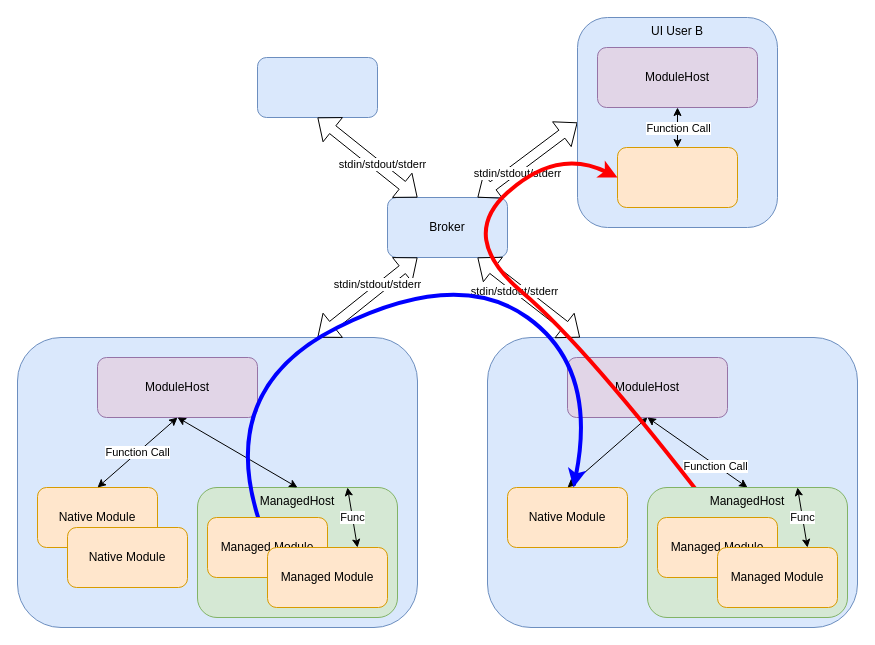
This 875x645 diagram has some shape labels left out. The centre of each missing label's shape, as x and y in pixels:
"Managed WPF UI" goes at point (677, 177).
"UI - User A" goes at point (317, 87).
